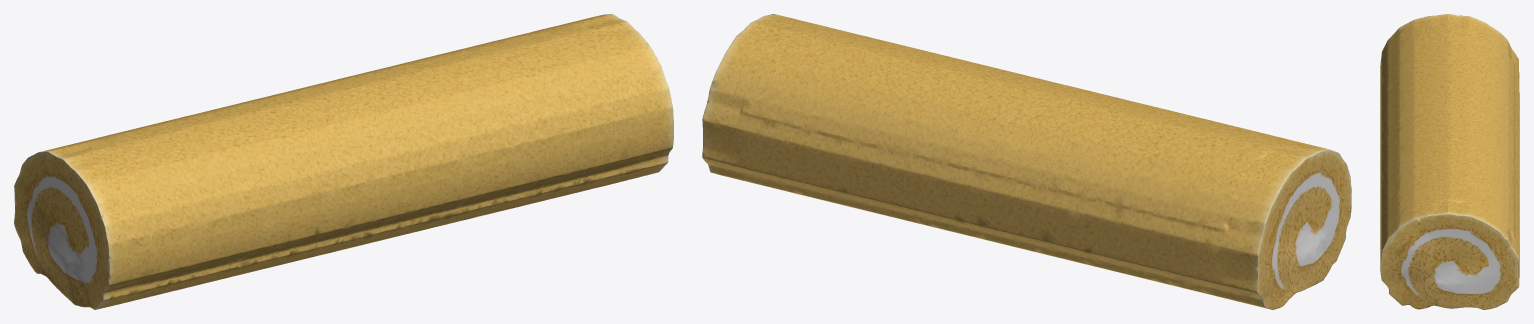
Rendered from RollCake.fbx.
The picture shows the model from 3 angles, left to right: view 1: azimuth 30°, elevation 25°; view 2: azimuth 150°, elevation 25°; view 3: azimuth 270°, elevation 25°; orthographic projection. The views are drawn at different scales.
Visible parts, largest first — view 1: mesh_node; view 2: mesh_node; view 3: mesh_node.
Boxes of the visible parts, bbox=[...] form: mesh_node: bbox=[14, 14, 673, 309]; mesh_node: bbox=[702, 14, 1351, 309]; mesh_node: bbox=[1380, 14, 1519, 309].
Bounding box in the file's own units: 190 × 42.76 × 55.23.
1 material, 1 textured.
